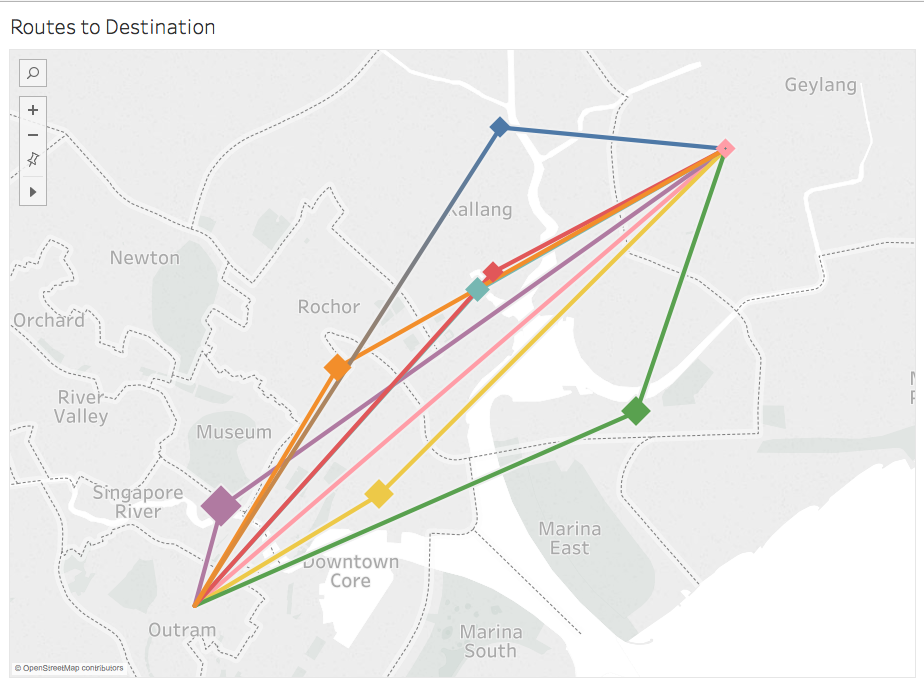

The dashboard page shown, as its layout file describes it:
{"tool":"tableau","page":{"name":"Material 2","canvas":[1000,800],"ordinal":2},"visuals":[{"type":"worksheet","title":"Suggested Routes","mark":"Line","rows":["Intermediate Lat"],"cols":["Intermediate Long","Intermediate Long"],"box":[0,0,996,800]},{"type":"worksheet","title":"Sheet 10","mark":"Automatic","rows":["location"],"box":[726,522,246,253]}]}

Visuals, with their boxes on the page's 1000x800 design canvas (x1, y1, x2, y2). These are canvas units, not pixel positions in the 924x686 screenshot, which may show the page scaled, cropped or inside an application window:
"Suggested Routes" worksheet (Line marks): left=0, top=0, right=996, bottom=800
"Sheet 10" worksheet: left=726, top=522, right=972, bottom=775
